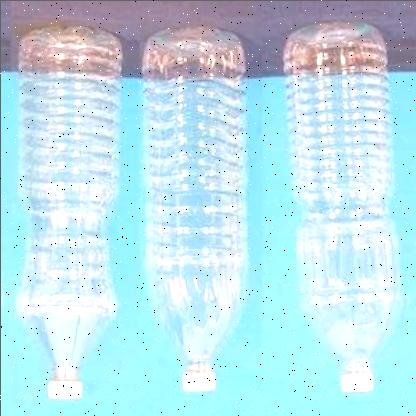Plastic Bottle: (280, 16, 400, 392), (11, 28, 122, 401), (140, 24, 248, 394)
